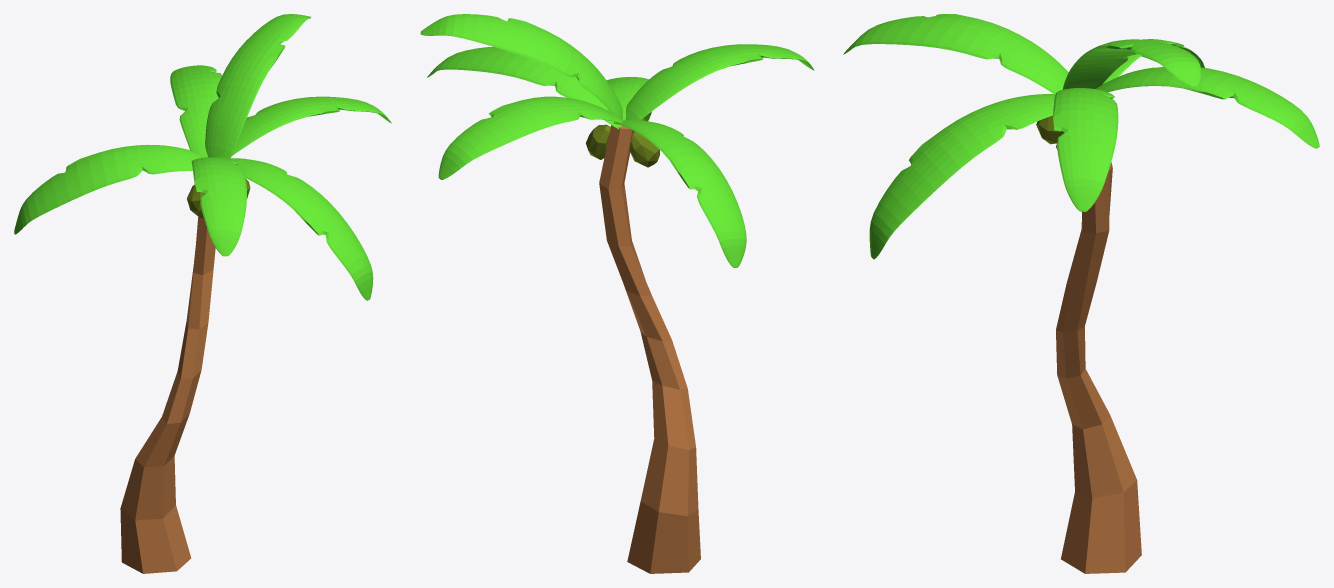
File: tree 1.glb
3 views of the same model, side by side, from view 1: azimuth 30°, elevation 25°; view 2: azimuth 150°, elevation 25°; view 3: azimuth 270°, elevation 25° (orthographic). The views are drawn at different scales.
Visible parts, largest first — view 1: trunk; view 2: trunk; view 3: trunk.
Part boxes in pixels (x1,y1,x2,y2): trunk: (14,14,391,573); trunk: (420,14,814,573); trunk: (843,14,1319,573).
Size of the model in its own units: 16.52 by 22.96 by 16.5.
